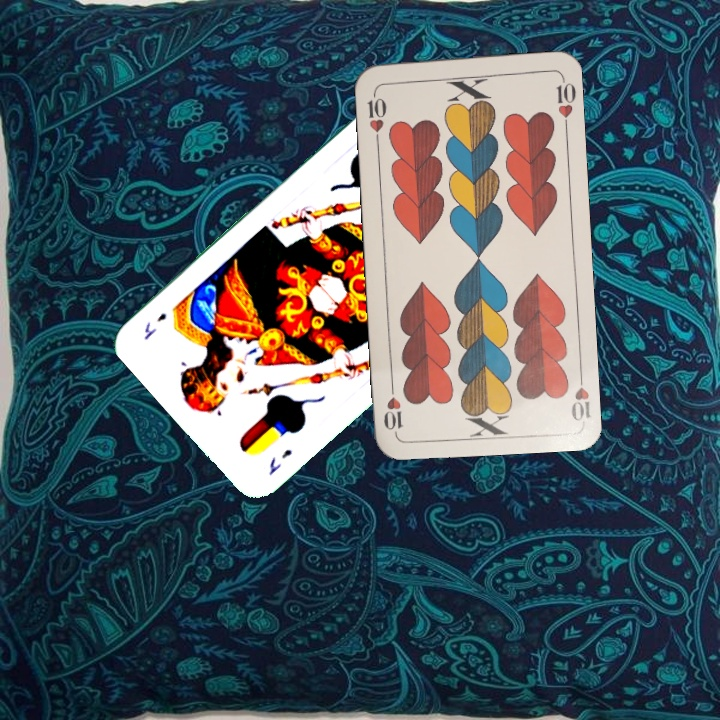EK: (264, 444, 295, 478)
H10: (363, 86, 389, 145), (567, 365, 593, 424)
